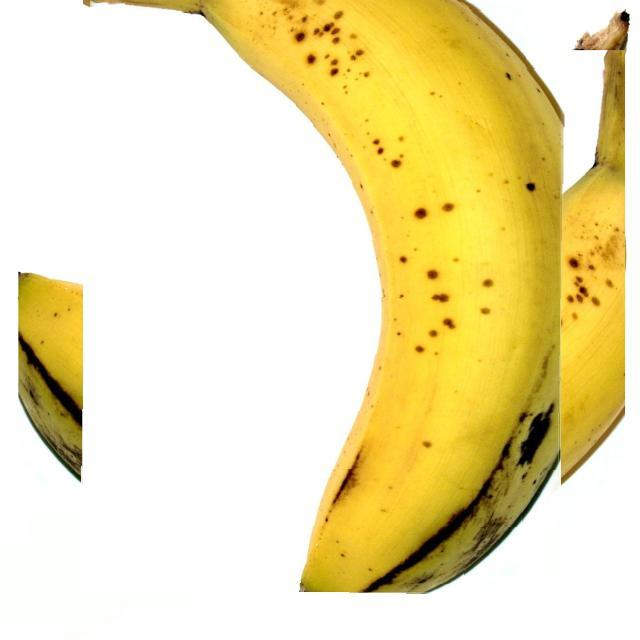Muito Madura: (92, 0, 564, 594)
